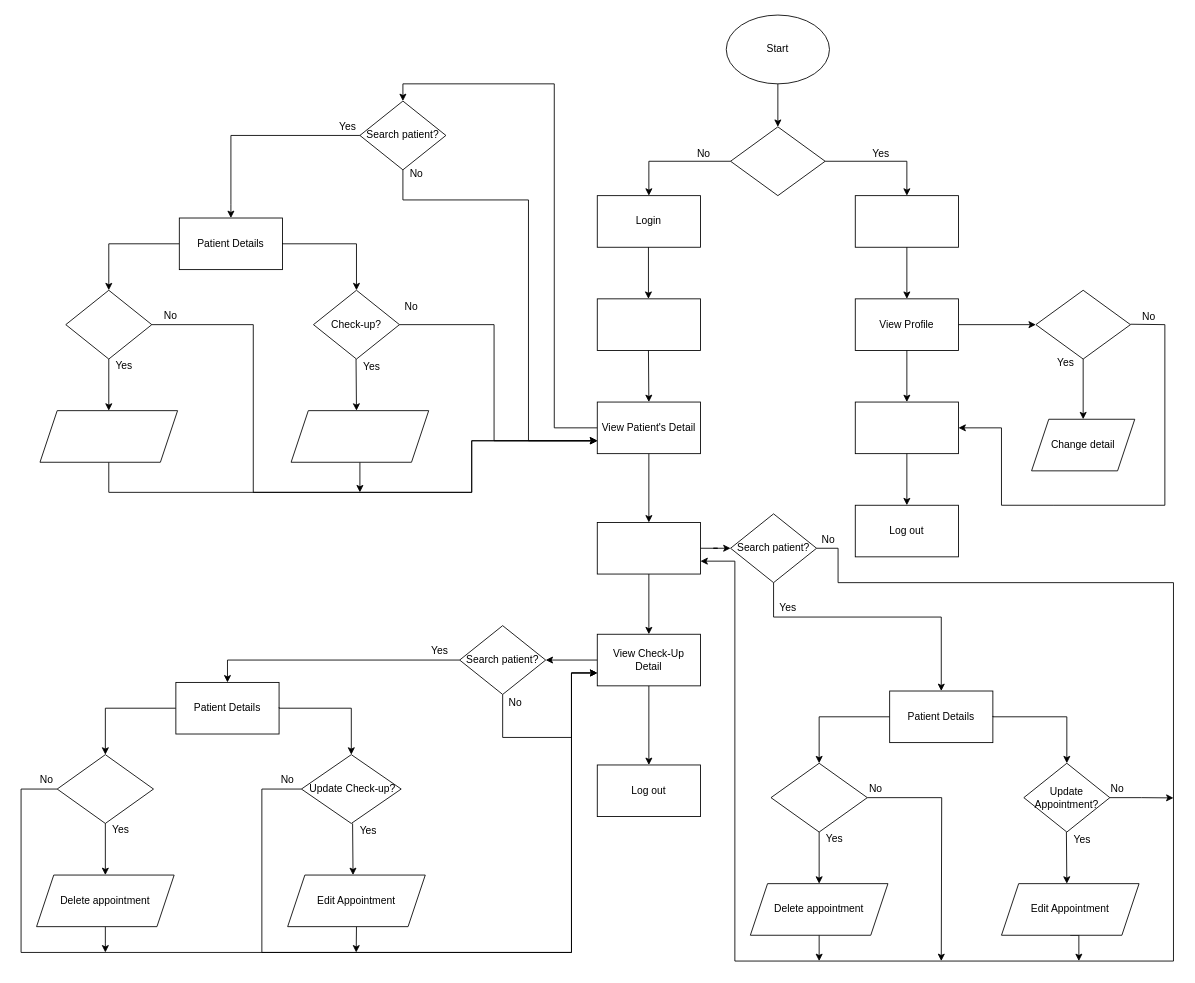
The diagram is 1195 pixels wide and 983 high, and some of its shapes have lost their labels. Here are the shapes that lost their labels. From the top down, the box of each, then its label:
(730, 126, 825, 196): Patient?
(854, 195, 958, 247): Login patient
(65, 289, 152, 359): Appointment?
(596, 298, 700, 350): View Hospital Profile
(1035, 289, 1130, 359): Edit profile?
(39, 410, 178, 462): Insert Appointment Data
(290, 410, 429, 462): Insert Check-up Data
(854, 401, 958, 454): View History
(596, 522, 700, 574): View Appointment Detail
(56, 754, 154, 823): Delete Check-up?
(770, 762, 867, 832): Delete Appointment?
